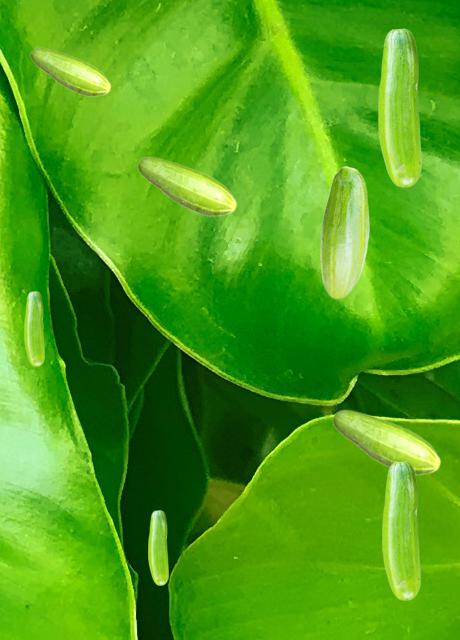cucumber: (332, 409, 440, 475), (378, 28, 420, 186), (320, 166, 368, 298), (137, 156, 236, 216), (382, 461, 419, 599), (30, 47, 110, 96), (148, 510, 167, 584), (24, 291, 43, 365)
